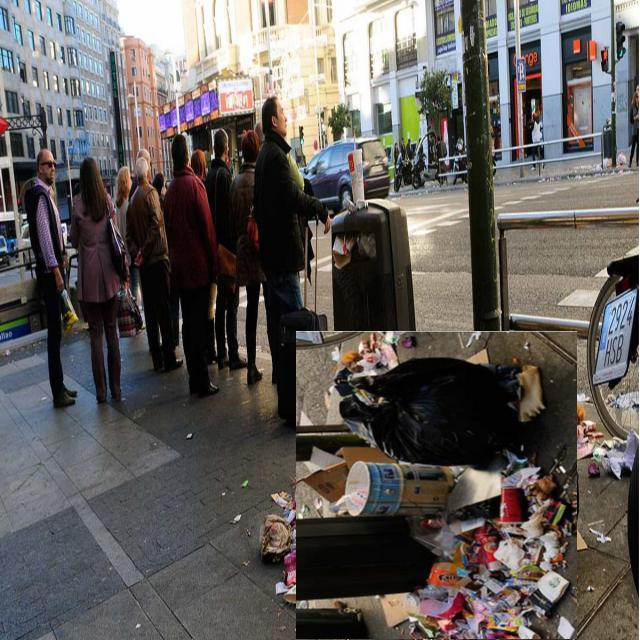Trashbag: (330, 348, 530, 472)
